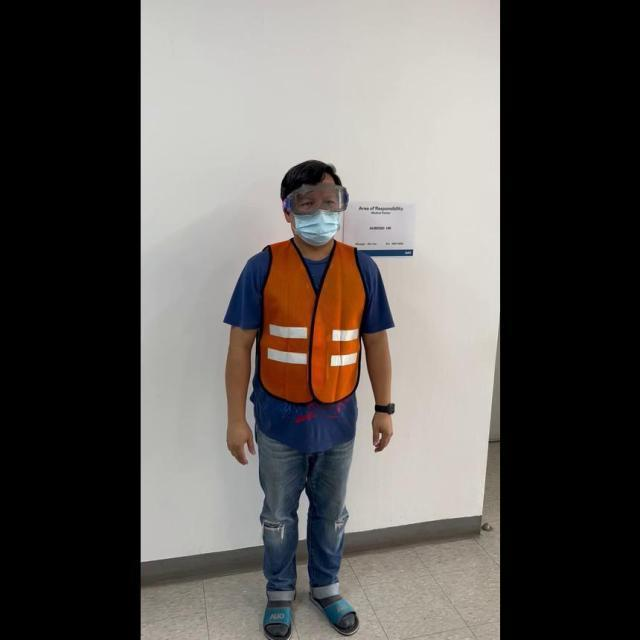bare_hand: (223, 411, 255, 467), (369, 406, 392, 453)
